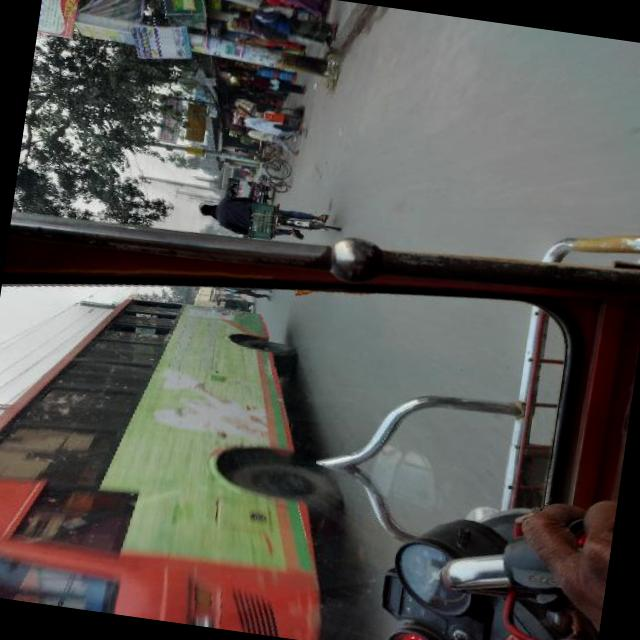bus: (0, 275, 376, 640)
motorcycle: (224, 96, 302, 180), (221, 173, 274, 205), (214, 294, 256, 314)
